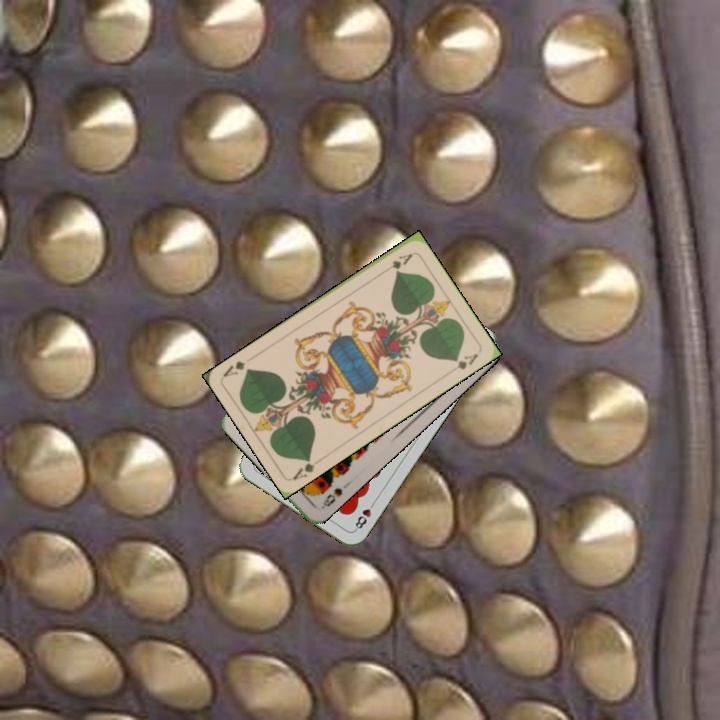GA: (289, 453, 325, 483), (387, 249, 415, 272)
H8: (351, 497, 378, 533)
S8: (317, 483, 345, 511)
